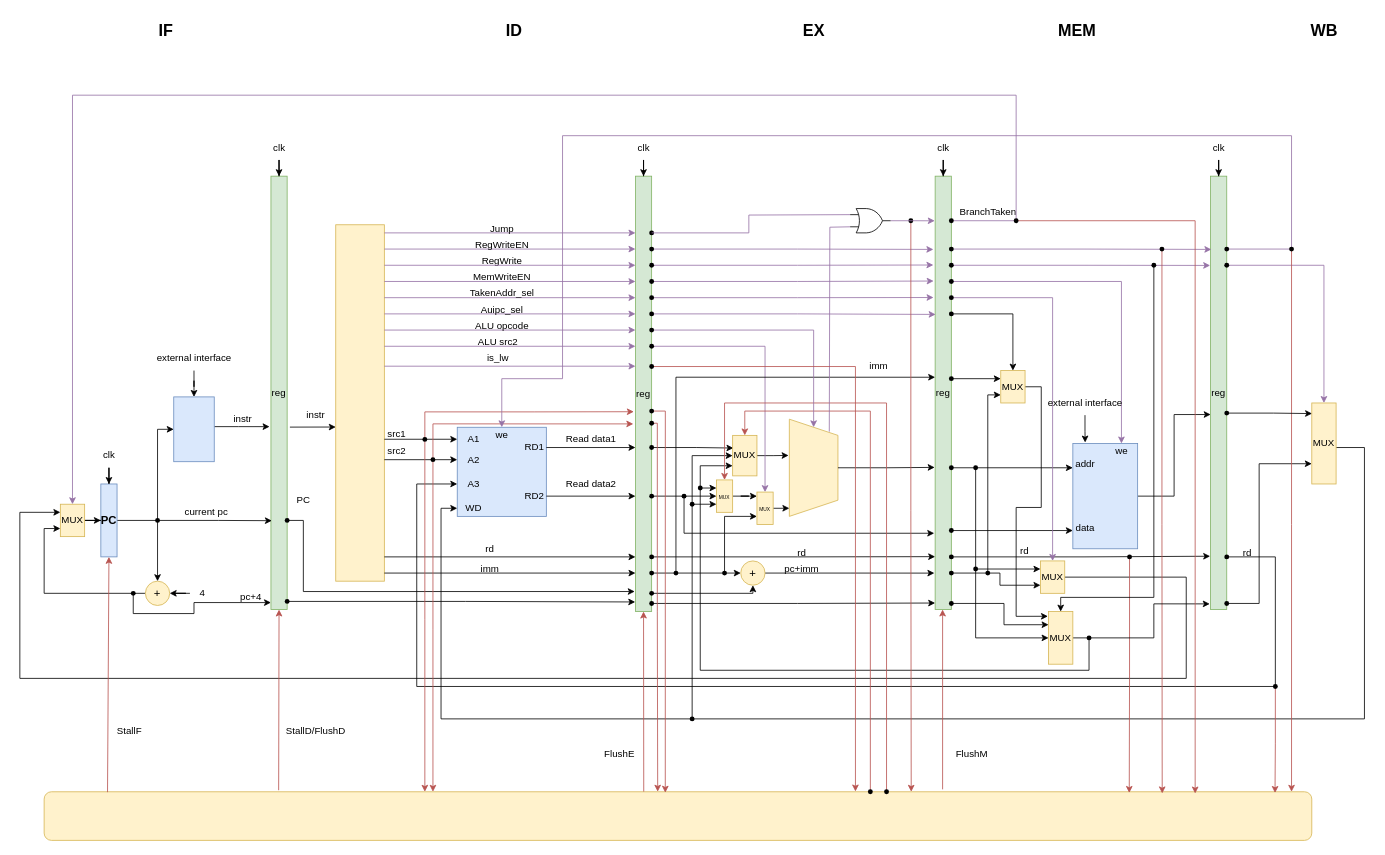
Some shapes in this 1385 by 855 pixel diagram are drawn without their labels. The box of each missing label's shape, as (x1, y1, x2, y2) in pixels:
ALU: (789, 418, 838, 516)
Decode: (335, 224, 384, 581)
DTCM: (1072, 443, 1138, 549)
Hazard unit: (43, 791, 1312, 840)
ITCM: (173, 396, 214, 462)
or: (849, 208, 891, 233)
regfile: (456, 426, 546, 516)
